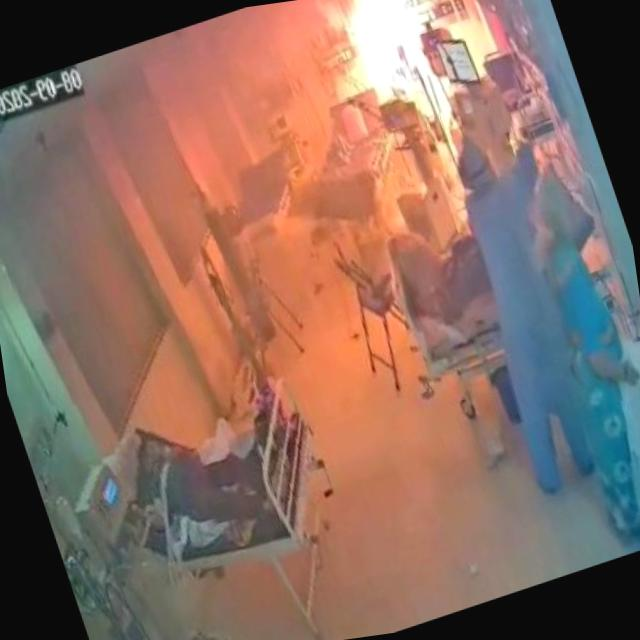fire: (281, 0, 498, 181)
